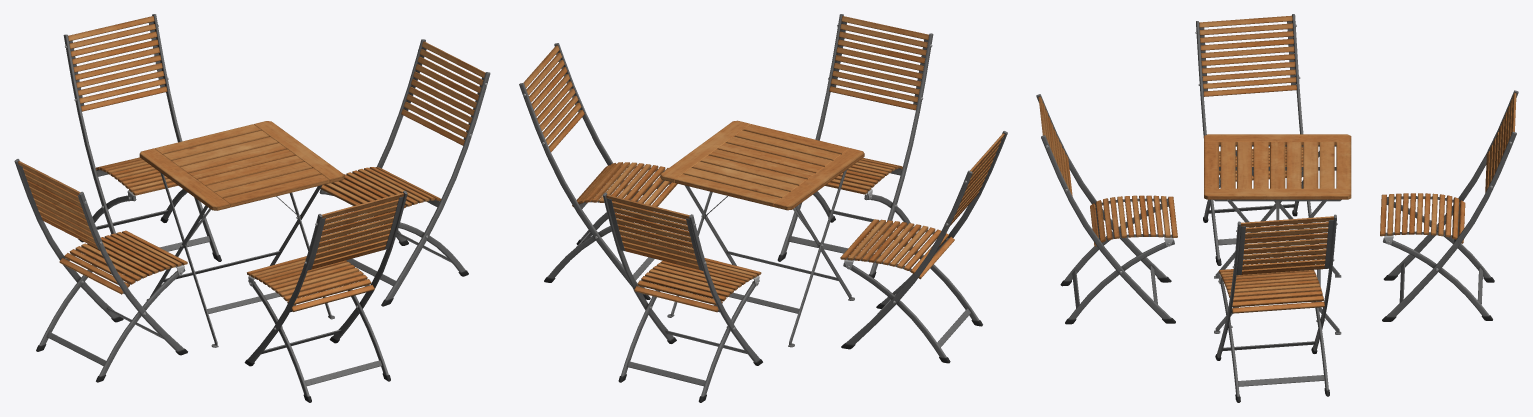
File: uno_essential.glb
The picture shows the model from 3 angles, left to right: view 1: azimuth 30°, elevation 25°; view 2: azimuth 150°, elevation 25°; view 3: azimuth 270°, elevation 25°; orthographic projection. The views are drawn at different scales.
Parts seen in each view (by area): view 1: outdoor_table_chair_set_01_table, outdoor_table_chair_set_01_chair_01, outdoor_table_chair_set_01_chair_01.002, outdoor_table_chair_set_01_chair_01.001, outdoor_table_chair_set_01_chair_02; view 2: outdoor_table_chair_set_01_table, outdoor_table_chair_set_01_chair_02, outdoor_table_chair_set_01_chair_01, outdoor_table_chair_set_01_chair_01.001, outdoor_table_chair_set_01_chair_01.002; view 3: outdoor_table_chair_set_01_chair_01.001, outdoor_table_chair_set_01_table, outdoor_table_chair_set_01_chair_02, outdoor_table_chair_set_01_chair_01.002, outdoor_table_chair_set_01_chair_01.
Part boxes in pixels (x1,y1,x2,y2): outdoor_table_chair_set_01_table: (139, 121, 344, 347); outdoor_table_chair_set_01_chair_01: (244, 191, 407, 402); outdoor_table_chair_set_01_chair_01.002: (14, 159, 187, 382); outdoor_table_chair_set_01_chair_01.001: (319, 39, 490, 306); outdoor_table_chair_set_01_chair_02: (63, 14, 221, 261); outdoor_table_chair_set_01_table: (660, 120, 864, 347); outdoor_table_chair_set_01_chair_02: (602, 192, 762, 402); outdoor_table_chair_set_01_chair_01: (777, 14, 933, 278); outdoor_table_chair_set_01_chair_01.001: (519, 43, 677, 299); outdoor_table_chair_set_01_chair_01.002: (840, 131, 1007, 363); outdoor_table_chair_set_01_chair_01.001: (1215, 214, 1337, 402); outdoor_table_chair_set_01_table: (1204, 134, 1351, 334); outdoor_table_chair_set_01_chair_02: (1380, 90, 1518, 321); outdoor_table_chair_set_01_chair_01.002: (1195, 14, 1315, 265); outdoor_table_chair_set_01_chair_01: (1036, 94, 1177, 324).
Size of what is drawn, in the model's own units: 4.14 by 1.75 by 4.01.
Materials: 2 (2 with a texture image).
